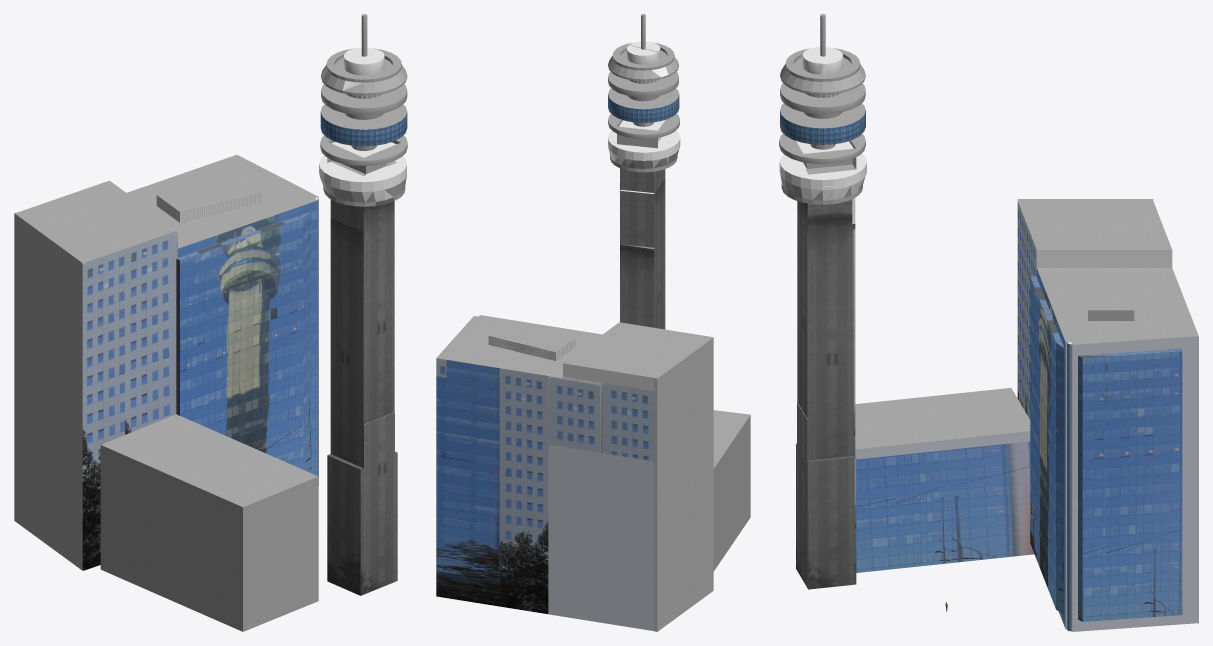
The model's file is torre_entel.glb.
3 renders of one model, left to right at view 1: azimuth 30°, elevation 25°; view 2: azimuth 150°, elevation 25°; view 3: azimuth 270°, elevation 25°, orthographic. The views are drawn at different scales.
Parts seen in each view (by area): view 1: torre_entel; view 2: torre_entel; view 3: torre_entel.
Part boxes in pixels (x1=…): torre_entel: x1=14, y1=14, x2=407, y2=631; torre_entel: x1=436, y1=14, x2=750, y2=631; torre_entel: x1=779, y1=14, x2=1198, y2=631.
Size of the model in its own units: 50.86 by 106 by 69.52.
44 materials, 30 textured.
